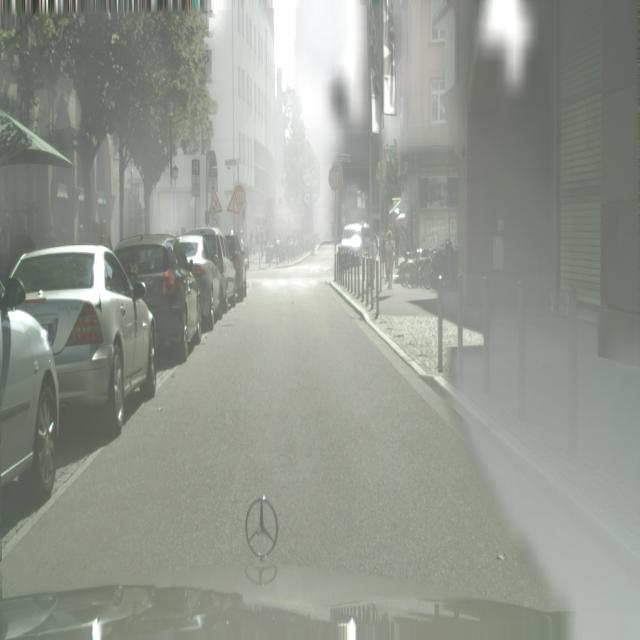person: (385, 231, 395, 289)
truck: (8, 243, 158, 432), (0, 291, 60, 501), (115, 236, 202, 363), (183, 224, 237, 310), (178, 232, 223, 328), (223, 232, 248, 301), (340, 222, 371, 257)
